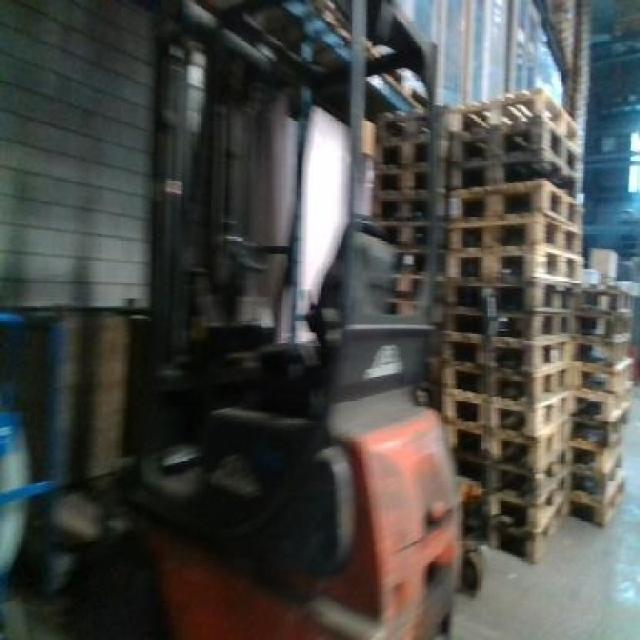pallets: (374, 89, 629, 558)
